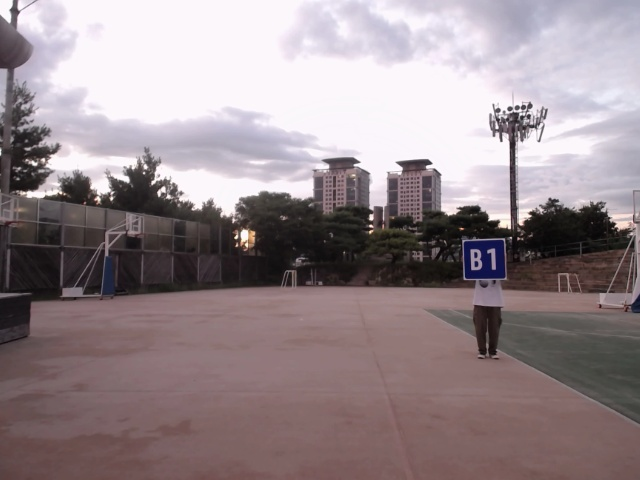delivery_b1: (463, 239, 507, 280)
